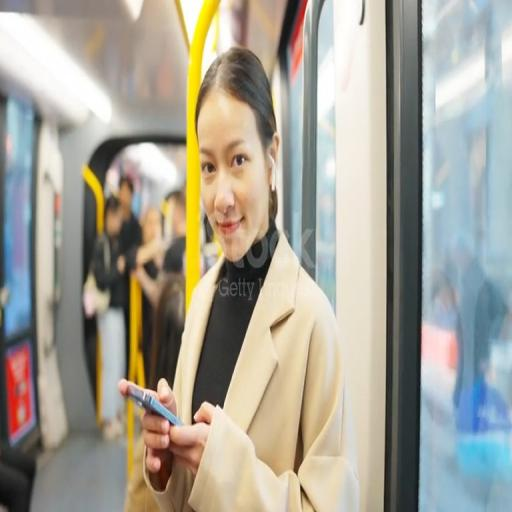earphone: (266, 152, 278, 197)
